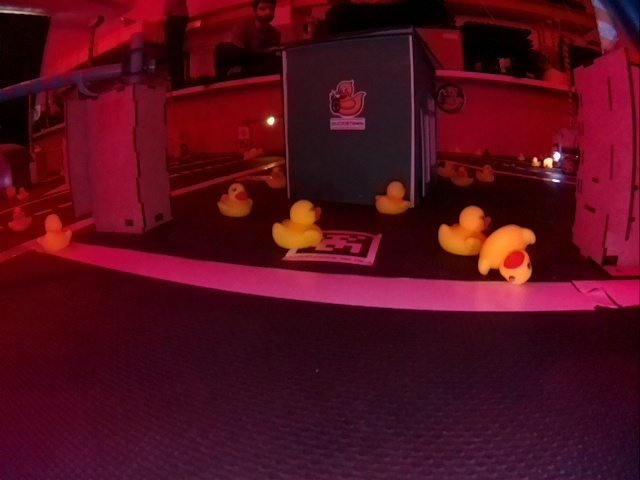Duckie: (479, 227, 535, 282), (439, 206, 489, 254), (272, 200, 322, 246), (38, 214, 71, 252), (219, 184, 253, 217), (376, 182, 410, 214), (9, 206, 30, 229), (451, 167, 473, 186), (268, 167, 287, 188), (477, 166, 494, 183), (544, 158, 553, 167)
QR code: (285, 229, 380, 264)
Traffic light: (267, 117, 275, 127)
